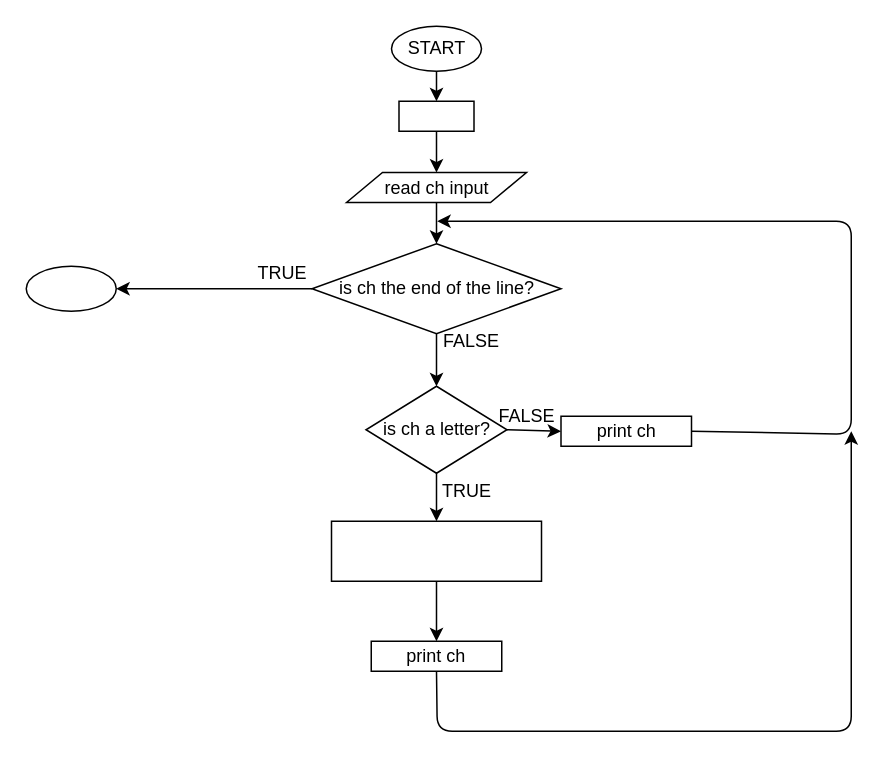
Image size: 890x770. Some labels were removed from this diagram. The shapes that lost their labels are listed below. From the top down, each one's centre as x and y in pixels, then its label:
At point 436,115: "char ch;".
At point 70,288: "STOP".
At point 436,550: "shift c by 13 characters in ASCII table".
